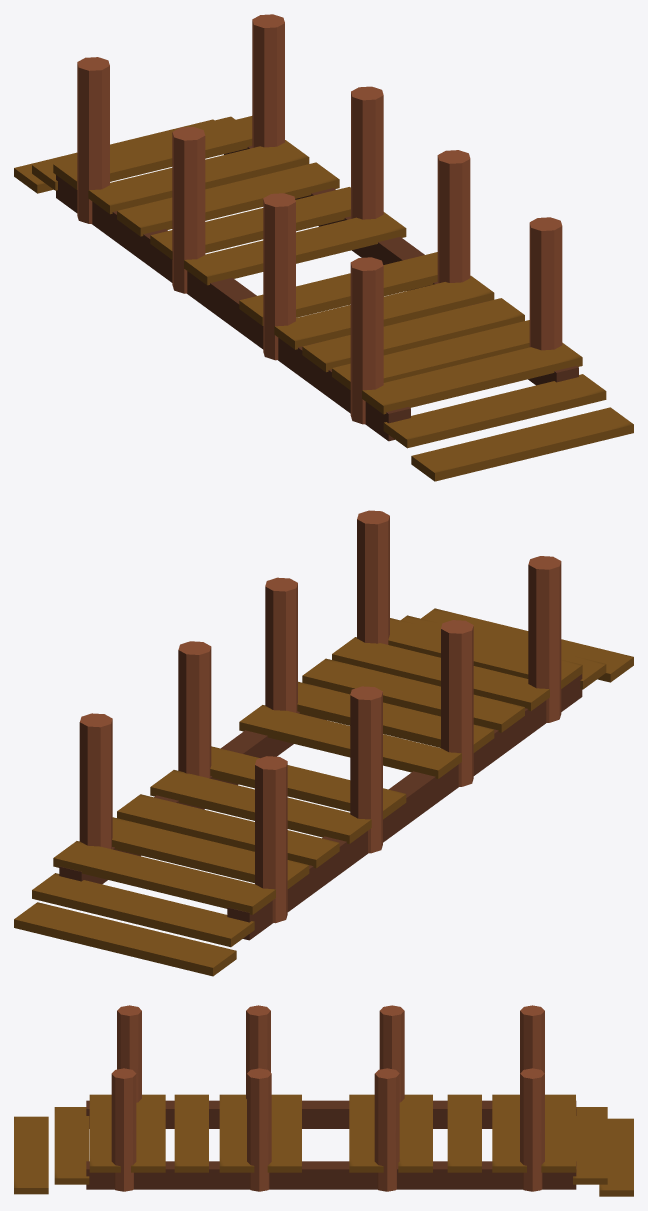
Rendered from Pier.fbx.
3 renders of one model, top to bottom at view 1: azimuth 30°, elevation 25°; view 2: azimuth 150°, elevation 25°; view 3: azimuth 270°, elevation 25°, orthographic. The views are drawn at different scales.
Visible parts, largest first — view 1: Pier; view 2: Pier; view 3: Pier.
Boxes of the visible parts, x1,y1,x2,y2 form: Pier: (14,14,633,481); Pier: (14,510,633,976); Pier: (14,1005,633,1196).
Size of the model in its own units: 594 by 445 by 2115.
